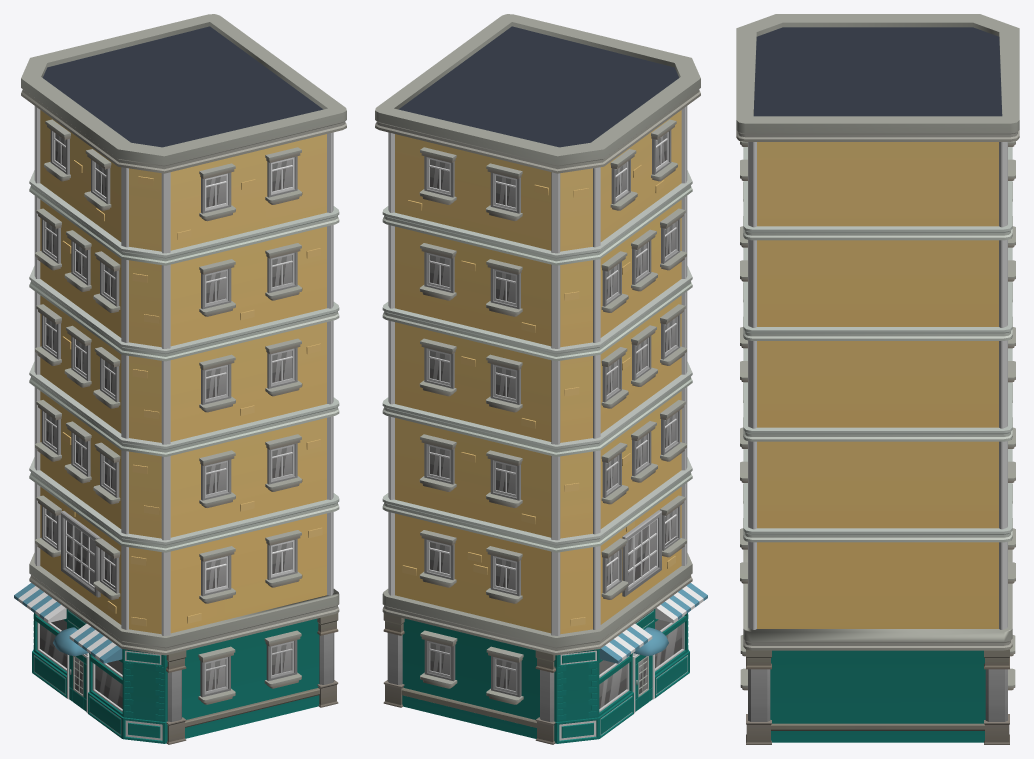
Rendered from Building_3_4_E.fbx.
The picture shows the model from 3 angles, left to right: view 1: azimuth 30°, elevation 25°; view 2: azimuth 150°, elevation 25°; view 3: azimuth 270°, elevation 25°; orthographic projection. The views are drawn at different scales.
Visible parts, largest first — view 1: Building 3_4_E; view 2: Building 3_4_E; view 3: Building 3_4_E.
Boxes of the visible parts, bbox=[...] form: Building 3_4_E: bbox=[14, 14, 346, 744]; Building 3_4_E: bbox=[375, 14, 707, 744]; Building 3_4_E: bbox=[736, 14, 1019, 744].
Bounding box in the file's own units: 808 × 2041 × 837.
